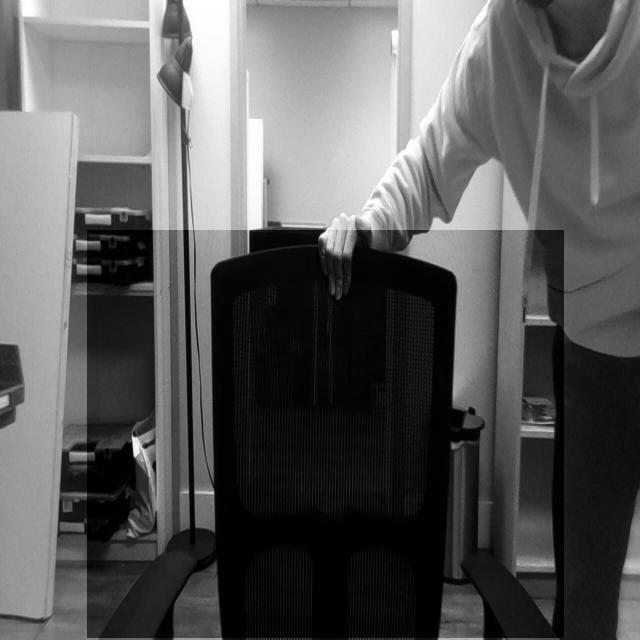chair: (87, 230, 565, 638)
